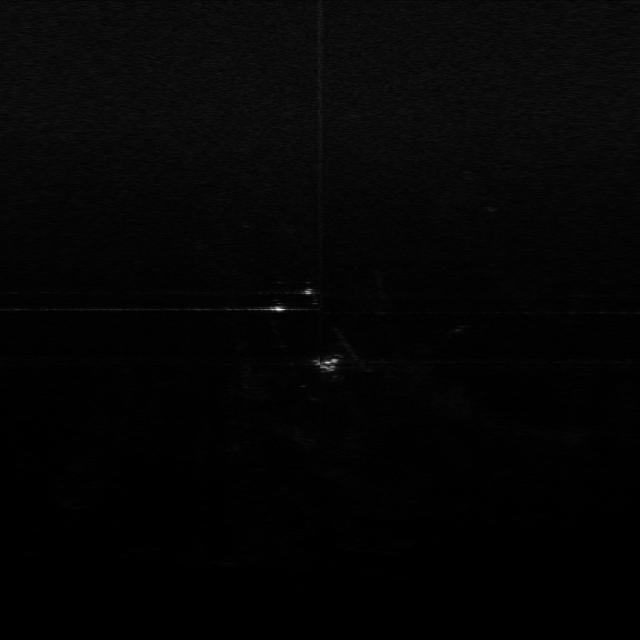rov: (310, 353, 344, 376)
